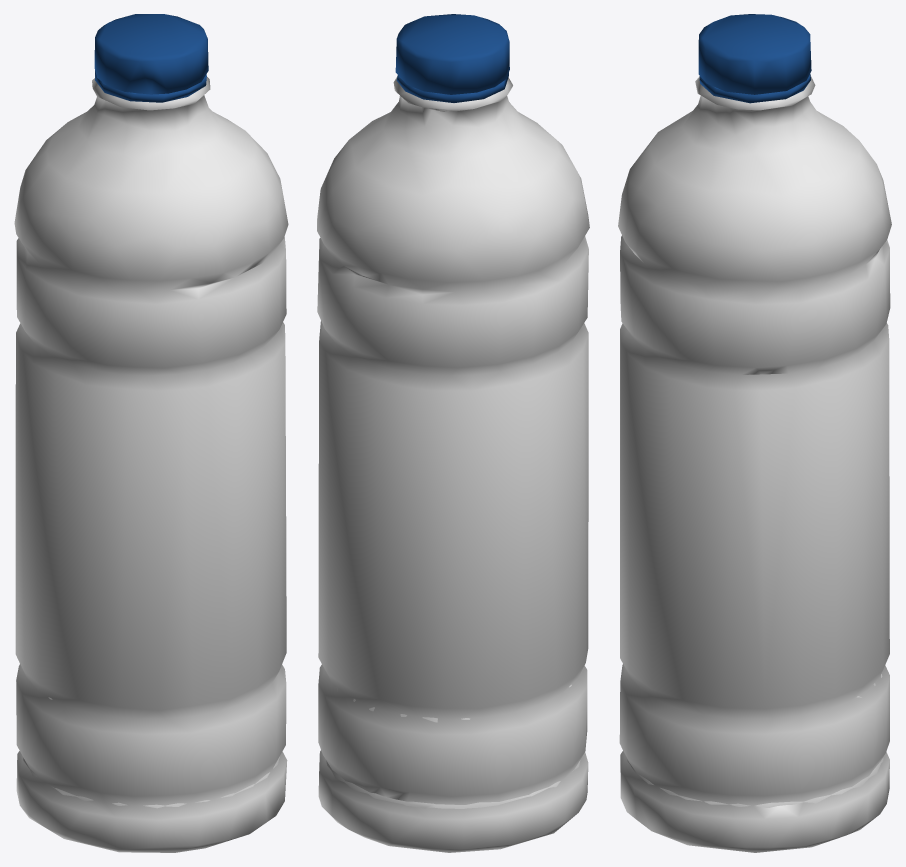
The model's file is WaterBottle.fbx.
The picture shows the model from 3 angles, left to right: view 1: azimuth 30°, elevation 25°; view 2: azimuth 150°, elevation 25°; view 3: azimuth 270°, elevation 25°; orthographic projection.
Parts seen in each view (by area): view 1: Bottle, Cap; view 2: Bottle, Cap, Fill; view 3: Bottle, Cap, Fill.
Boxes of the visible parts, x1,y1,x2,y2 form: Bottle: (14,77,288,852); Cap: (94,14,208,102); Bottle: (317,77,589,852); Cap: (395,14,509,102); Fill: (326,108,580,808); Bottle: (618,75,891,852); Cap: (698,14,811,103); Fill: (627,674,883,807).
Size of the model in its own units: 0.1453 by 0.1458 by 0.4509.
